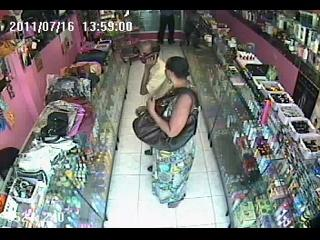Normal: (140, 56, 200, 190), (132, 110, 170, 150), (157, 10, 176, 45), (76, 50, 110, 66)
